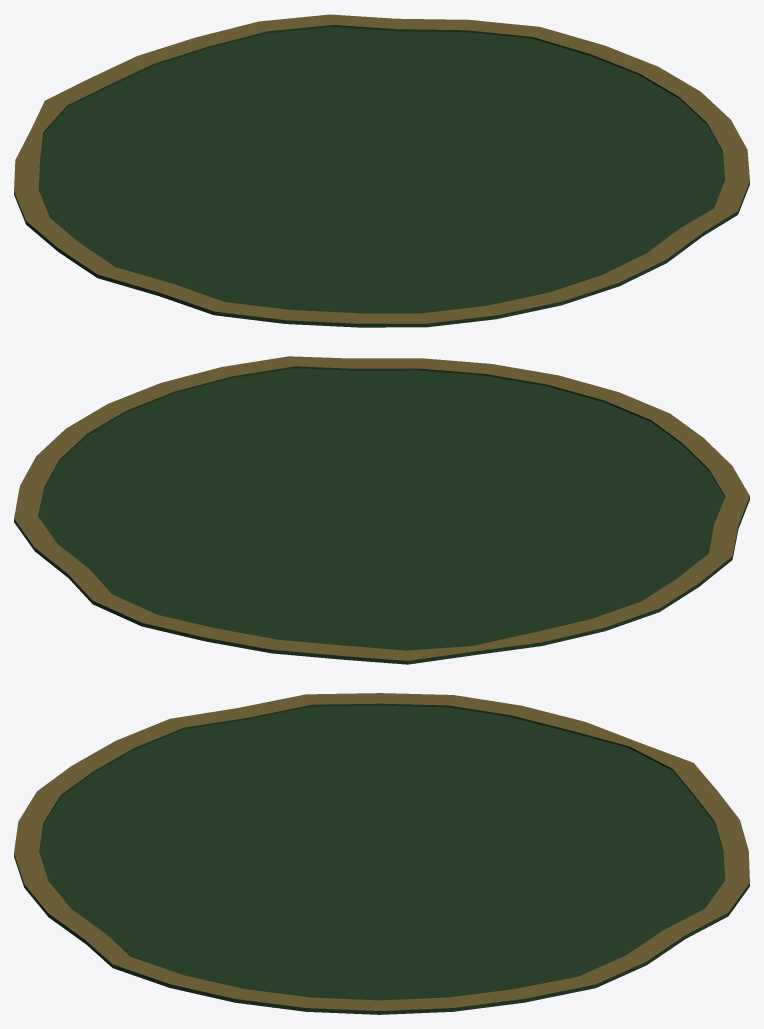
The model's file is Маленький коврик.fbx.
3 views of the same model, one above another, from view 1: azimuth 30°, elevation 25°; view 2: azimuth 150°, elevation 25°; view 3: azimuth 270°, elevation 25° (orthographic). The views are drawn at different scales.
Parts seen in each view (by area): view 1: Circle.001; view 2: Circle.001; view 3: Circle.001.
Part boxes in pixels (x1=…): Circle.001: x1=14, y1=14, x2=749, y2=327; Circle.001: x1=14, y1=356, x2=749, y2=664; Circle.001: x1=14, y1=693, x2=749, y2=1014.
Size of the model in its own units: 285 by 1.6 by 279.
